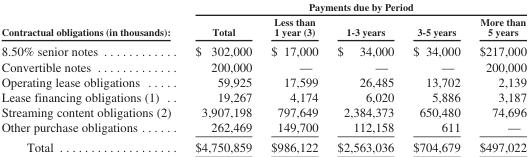table: (0, 0, 525, 154)
table column: (0, 0, 182, 154), (182, 0, 260, 154), (327, 0, 402, 154), (260, 0, 327, 154), (402, 0, 469, 154), (469, 0, 525, 154)
table column header: (0, 0, 525, 40)
table row: (0, 13, 525, 40), (0, 40, 525, 58), (0, 136, 525, 154), (0, 119, 525, 136), (0, 88, 525, 104), (0, 58, 525, 73), (0, 73, 525, 88), (0, 104, 525, 119), (0, 0, 525, 13)
table spanning cell: (0, 0, 182, 40), (182, 0, 525, 13)
